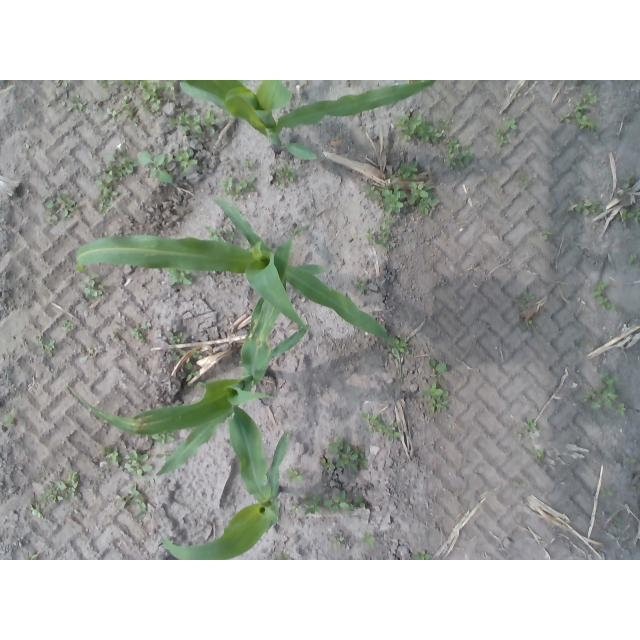Maize: (68, 207, 312, 481), (74, 198, 402, 351), (180, 81, 436, 163), (160, 404, 289, 560)
Weeds: (396, 110, 476, 170), (94, 141, 139, 216), (30, 465, 81, 517), (285, 490, 368, 517), (319, 437, 373, 475), (122, 80, 178, 116), (558, 86, 599, 132), (585, 372, 626, 415), (361, 182, 407, 215), (171, 108, 222, 136), (47, 80, 89, 112), (138, 150, 175, 186), (118, 481, 150, 522), (102, 96, 141, 129), (363, 411, 405, 441), (43, 190, 76, 223), (566, 198, 611, 222), (409, 181, 439, 216), (221, 175, 260, 201), (423, 381, 449, 414), (125, 449, 155, 476), (97, 443, 124, 471), (592, 280, 616, 311), (81, 273, 107, 300), (175, 149, 201, 175), (496, 118, 519, 146), (364, 226, 391, 249), (167, 268, 197, 287), (275, 165, 298, 188), (397, 159, 420, 182), (391, 333, 411, 359), (38, 334, 58, 358), (615, 205, 640, 224), (128, 325, 150, 344), (287, 466, 306, 485), (428, 358, 450, 374), (2, 408, 19, 428), (152, 433, 176, 447), (80, 348, 96, 367), (168, 329, 188, 344), (510, 291, 535, 303), (185, 361, 201, 379), (352, 276, 368, 294), (330, 531, 345, 549), (363, 531, 378, 549), (621, 173, 636, 190), (207, 224, 222, 241), (167, 349, 189, 360), (61, 319, 79, 332), (413, 548, 432, 560), (111, 331, 126, 346), (524, 419, 539, 434), (96, 80, 117, 90), (516, 172, 529, 188), (271, 552, 294, 560), (194, 381, 206, 396), (243, 159, 256, 172), (155, 449, 170, 460), (626, 252, 638, 265), (23, 552, 39, 561), (532, 448, 544, 460), (539, 228, 551, 240), (193, 348, 205, 360), (226, 229, 238, 240), (624, 455, 637, 465), (383, 215, 396, 225), (600, 489, 612, 498), (630, 485, 640, 495), (613, 513, 620, 527), (525, 320, 533, 329), (515, 92, 523, 101)
